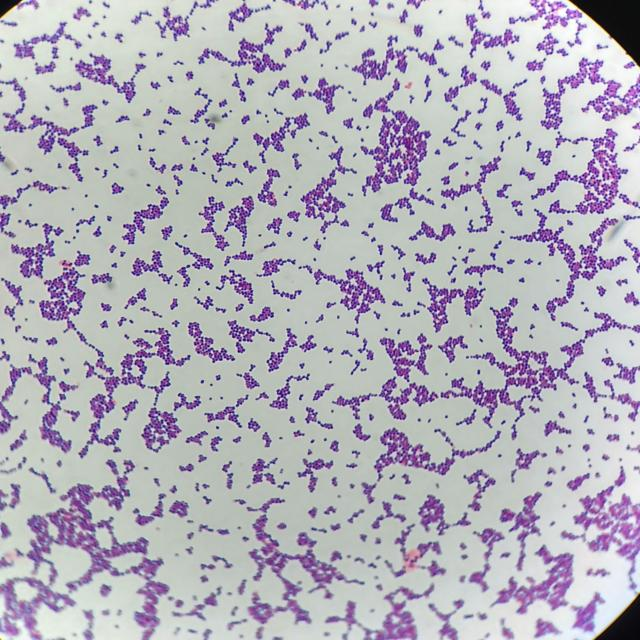Amoeba: (1, 1, 640, 640)
